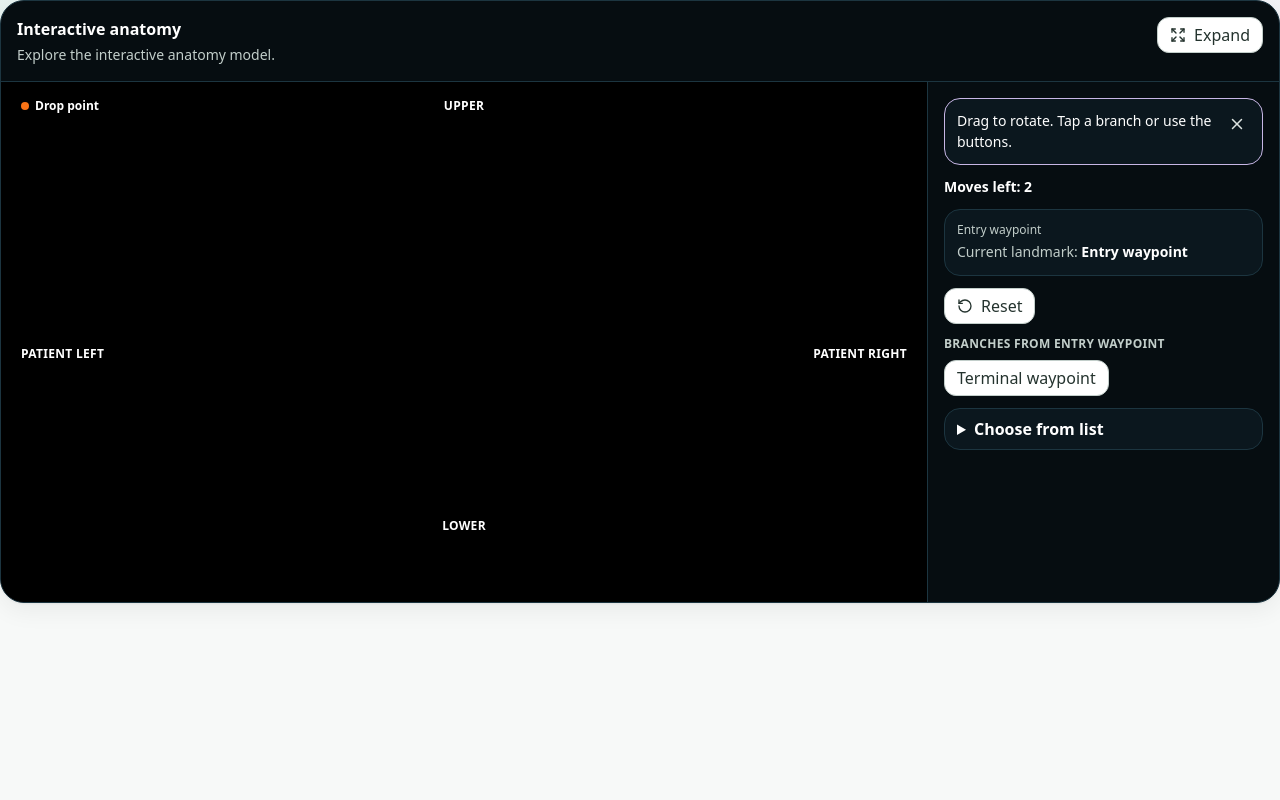
Test case: AnatomyViewer › moves through a waypoint overview without entering the model interior
This screenshot has width=1280, height=800.
Click the button "Terminal waypoint". click: point(1026, 378)
box: top-left (944, 360), bottom-right (1109, 396)
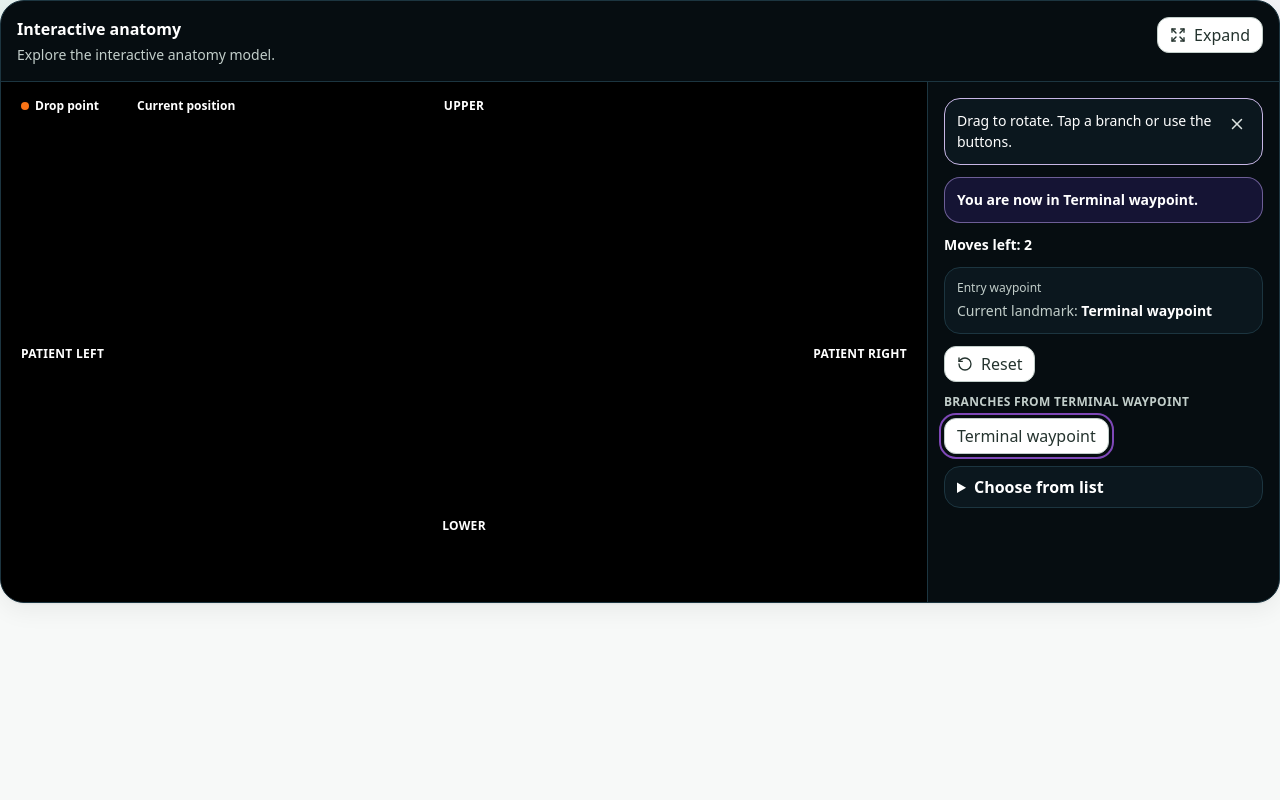
Expected: the text "Current position" is shown, top-left (115, 94), bottom-right (243, 118)
